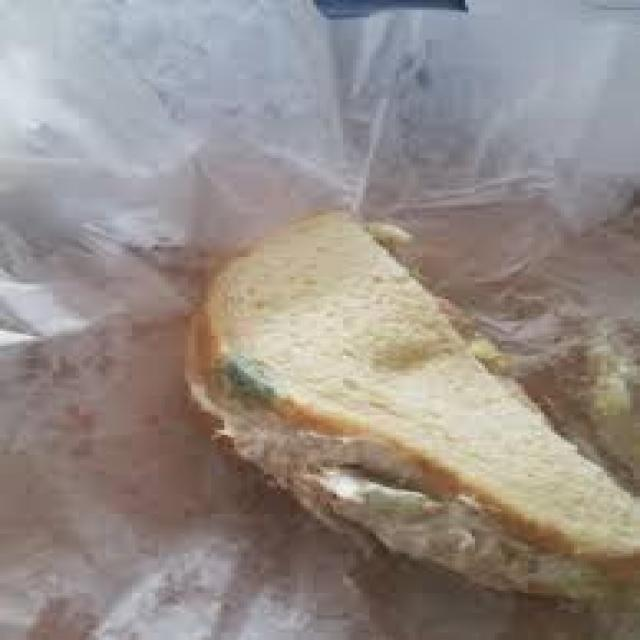organic waste: (181, 205, 637, 603)
